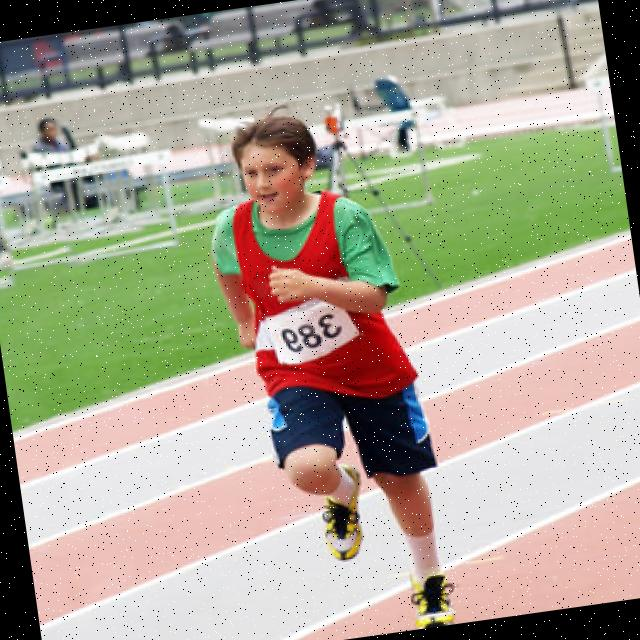Person: (193, 95, 462, 640)
